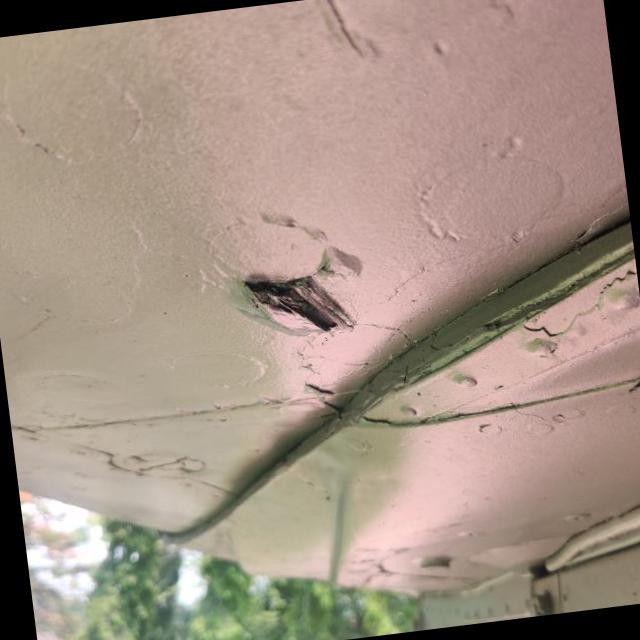Paint-off: (243, 276, 354, 331)
